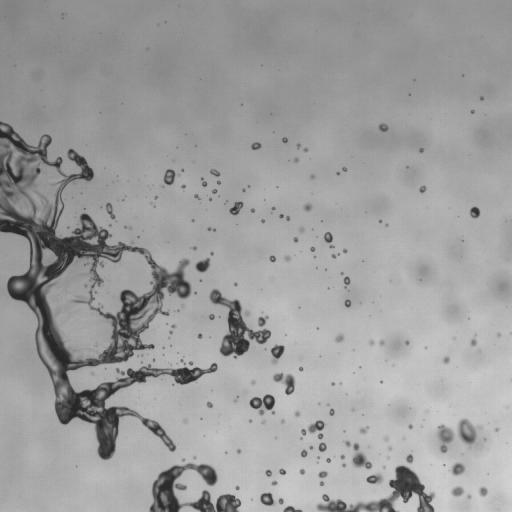droplet: (209, 290, 270, 358), (249, 394, 275, 415), (456, 418, 476, 445), (437, 424, 454, 452), (273, 373, 295, 394), (301, 420, 325, 439), (270, 344, 284, 364), (195, 257, 210, 272), (163, 169, 177, 185), (366, 472, 383, 484), (229, 201, 243, 215), (451, 462, 465, 475), (451, 486, 463, 496), (470, 206, 479, 218), (478, 486, 487, 496), (378, 123, 388, 131), (343, 276, 350, 287), (318, 442, 326, 451), (318, 470, 327, 478), (251, 142, 261, 149), (303, 203, 311, 211), (335, 334, 343, 342), (210, 169, 219, 176), (406, 454, 413, 463), (470, 336, 476, 346), (360, 426, 368, 433), (419, 185, 426, 192), (442, 356, 449, 363), (344, 299, 350, 307), (269, 255, 275, 262), (294, 410, 300, 417), (301, 450, 307, 457), (265, 469, 271, 476), (201, 178, 206, 186), (331, 253, 339, 258), (206, 401, 212, 407), (279, 469, 286, 474), (282, 137, 287, 143), (285, 255, 290, 261), (329, 409, 334, 415), (299, 469, 305, 474), (299, 227, 304, 232), (293, 237, 298, 242), (310, 246, 315, 251), (209, 314, 214, 319), (197, 333, 202, 338), (208, 227, 214, 231), (294, 157, 298, 162), (212, 189, 217, 193), (194, 194, 199, 198), (343, 248, 347, 253), (369, 340, 373, 345), (408, 424, 412, 429), (383, 437, 388, 441), (272, 481, 277, 485), (419, 148, 423, 152), (342, 167, 346, 171), (250, 208, 254, 212), (279, 214, 283, 218), (405, 340, 409, 344), (189, 361, 193, 365), (299, 367, 303, 371), (251, 380, 255, 384), (237, 449, 241, 453), (340, 455, 344, 459), (326, 458, 330, 462), (342, 463, 346, 467), (320, 481, 324, 485), (191, 246, 196, 249), (380, 340, 383, 345), (310, 175, 314, 178), (182, 184, 185, 188), (172, 324, 175, 328), (234, 398, 237, 402), (309, 446, 313, 449), (467, 495, 471, 498), (471, 110, 474, 113), (297, 144, 300, 147), (304, 148, 307, 151), (217, 181, 220, 184), (154, 195, 157, 198), (272, 207, 275, 210), (286, 217, 289, 220), (261, 219, 264, 222), (497, 333, 500, 336), (281, 419, 284, 422), (495, 428, 498, 431), (236, 486, 239, 489), (183, 420, 187, 422), (480, 97, 483, 99), (210, 252, 213, 254), (234, 283, 237, 285), (84, 284, 87, 286), (169, 331, 172, 333), (332, 382, 334, 385), (249, 419, 251, 422), (262, 420, 264, 423), (388, 447, 391, 449), (182, 458, 184, 461), (382, 466, 385, 468), (209, 198, 211, 200), (379, 220, 381, 222), (127, 226, 129, 228), (91, 372, 93, 374), (380, 381, 382, 383)
ligament: (0, 121, 215, 459), (316, 465, 435, 511), (149, 462, 240, 511), (345, 440, 372, 469), (260, 492, 283, 505), (105, 202, 115, 219), (324, 232, 333, 248), (283, 506, 302, 511)
